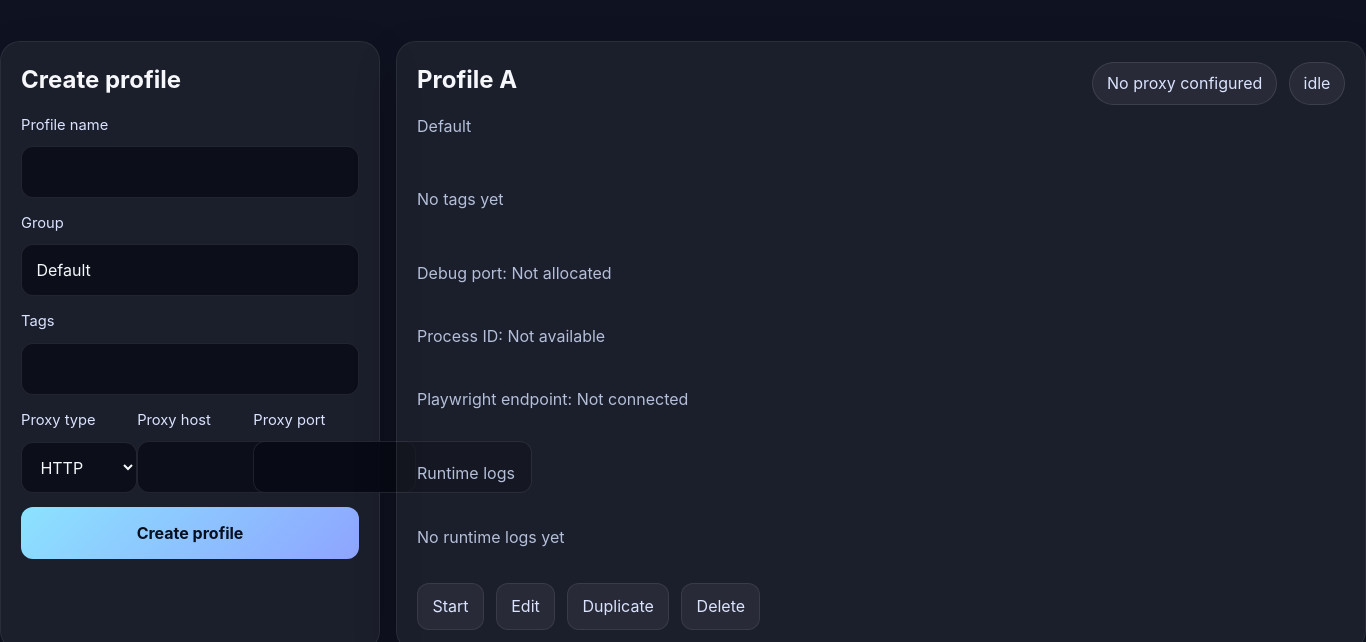
Test: ProfilesPage › restarts a running profile and frees the lock after stop
Click the button with aria-label "start profile a" at (450, 606), box [417,583,484,630]
(page scrolled)
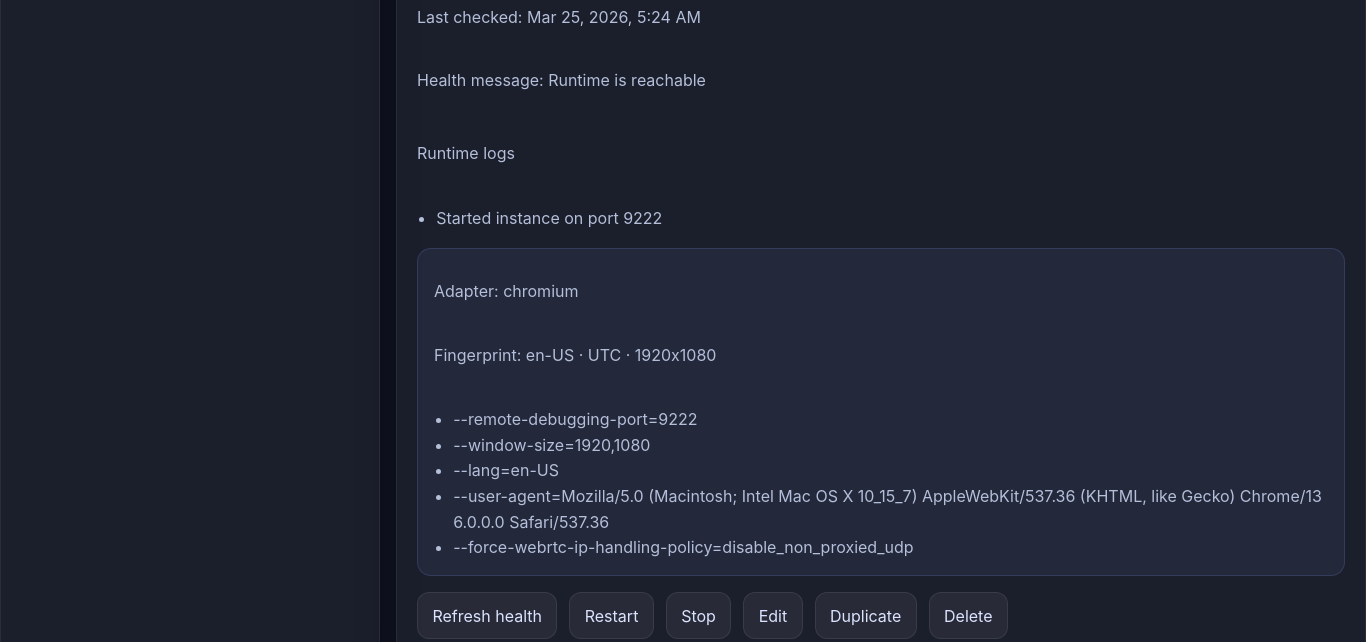
Click the button with aria-label "restart profile a" at (612, 616), box [569,592,654,639]
(page scrolled)
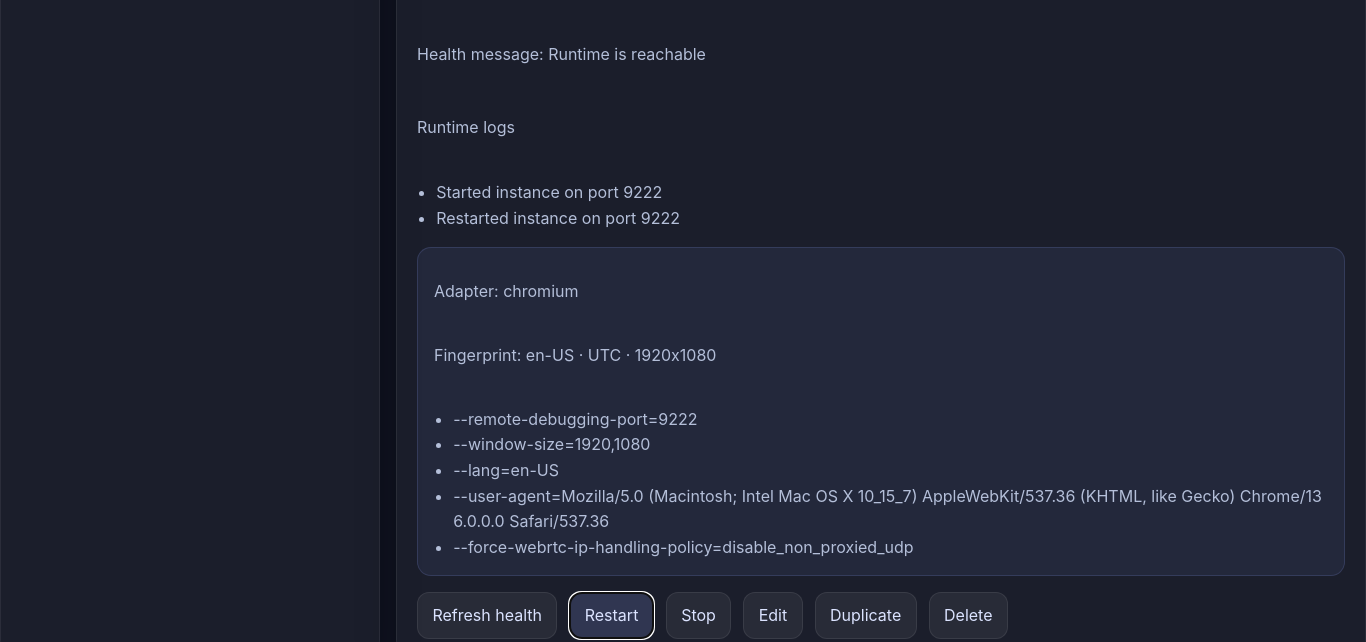
Click the button with aria-label "stop profile a" at (699, 615), box [666,592,731,638]
(page scrolled)
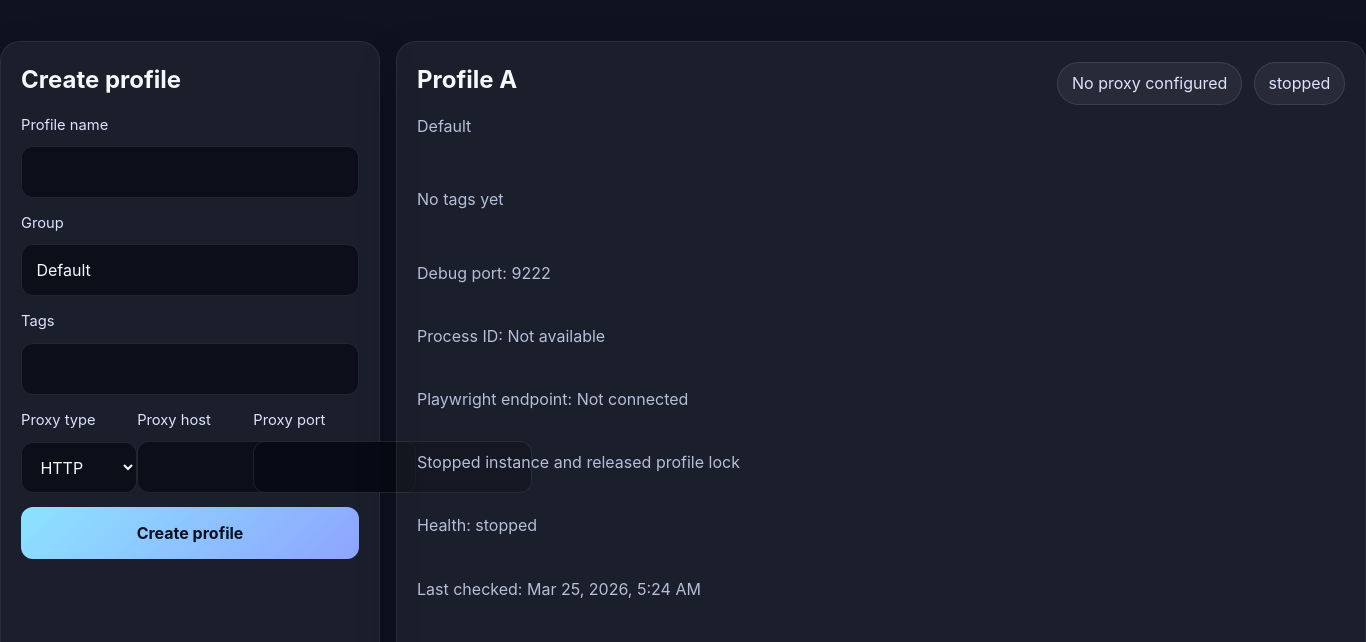
expect the text "Stopped instance and released profile lock" is shown 2 times: met
expect the text "stopped" is shown: met, box [1254,62,1345,105]
